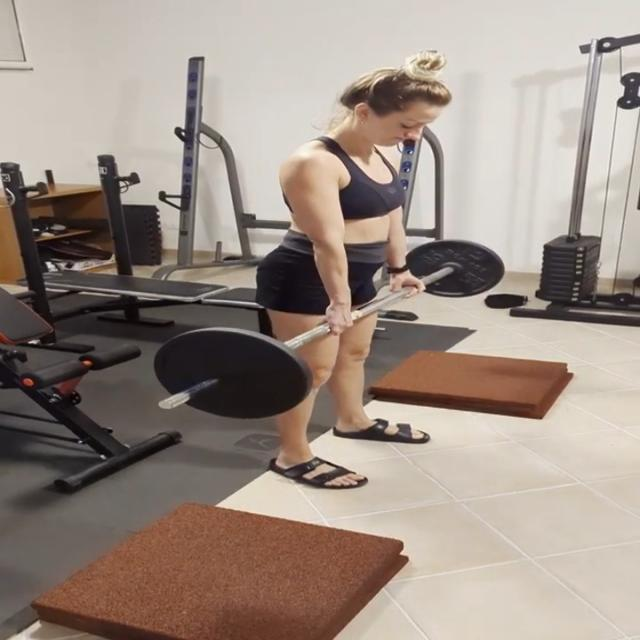barbell: (144, 324, 315, 425)
